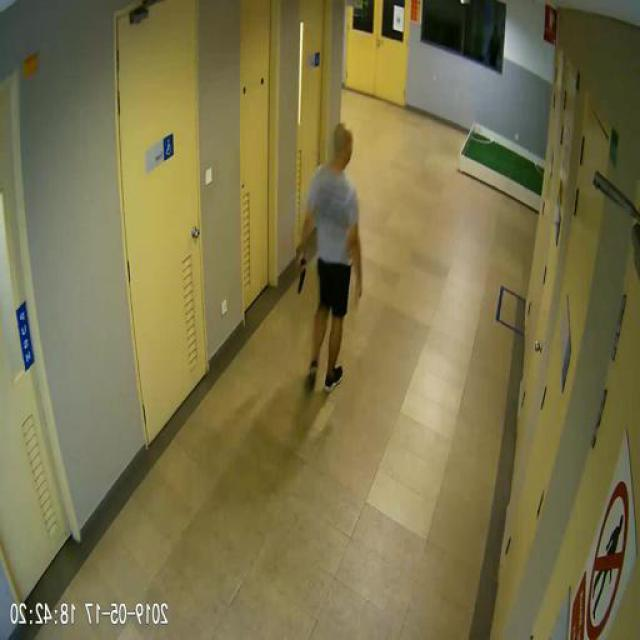Gun: (300, 251, 309, 291)
